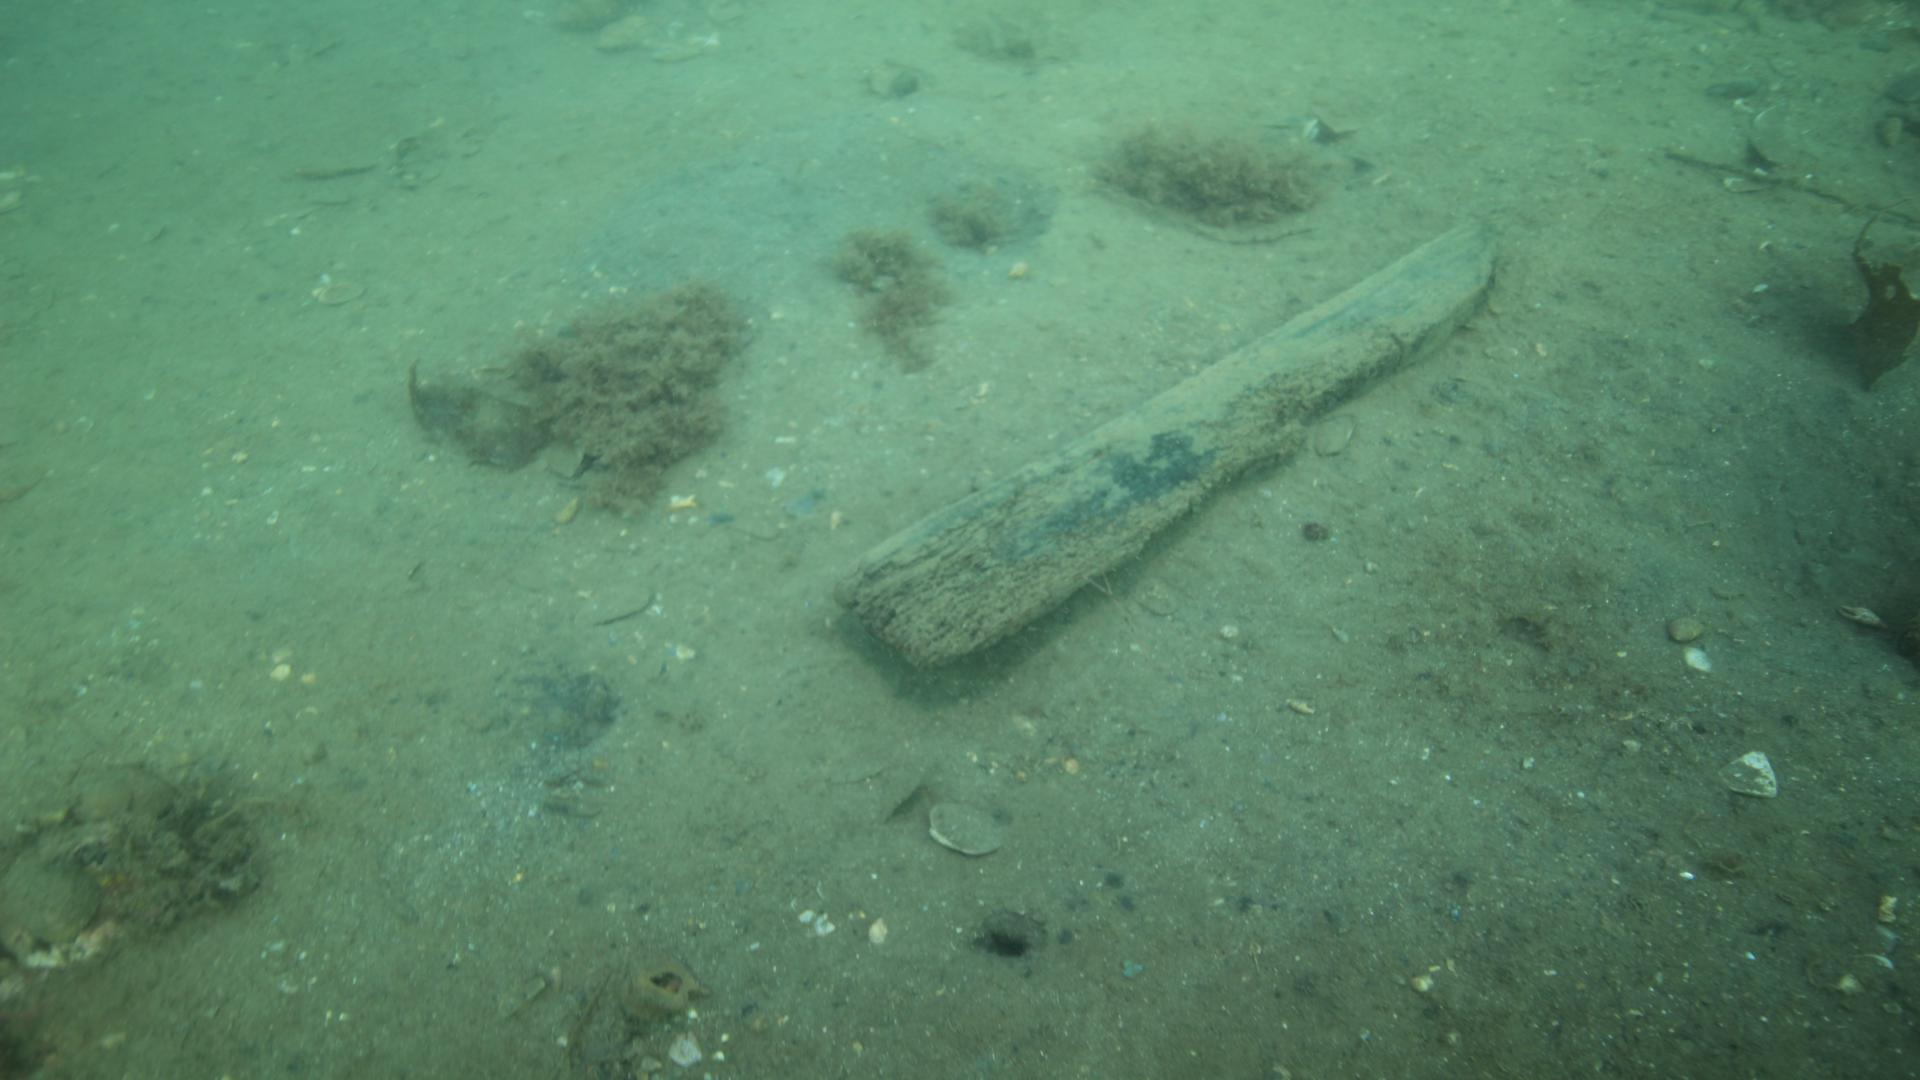wood: (827, 216, 1491, 674)
